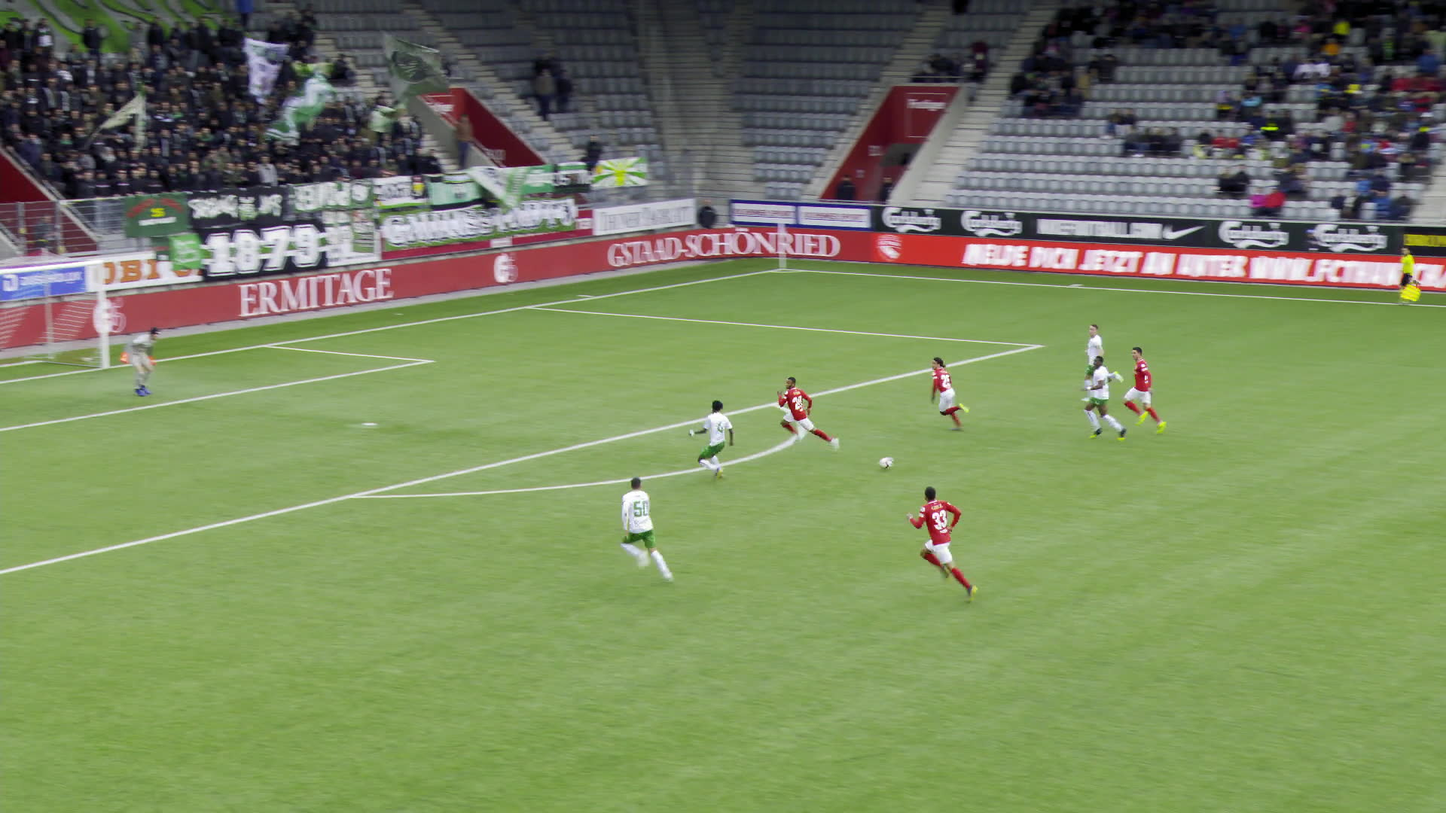ball: (885, 452, 904, 467)
player: (899, 484, 982, 601), (609, 472, 682, 585), (682, 392, 749, 479), (767, 374, 838, 452), (911, 352, 975, 430), (1063, 315, 1125, 395), (1121, 343, 1173, 431), (1075, 354, 1125, 443), (111, 326, 163, 399)
referee: (1377, 242, 1420, 302)
